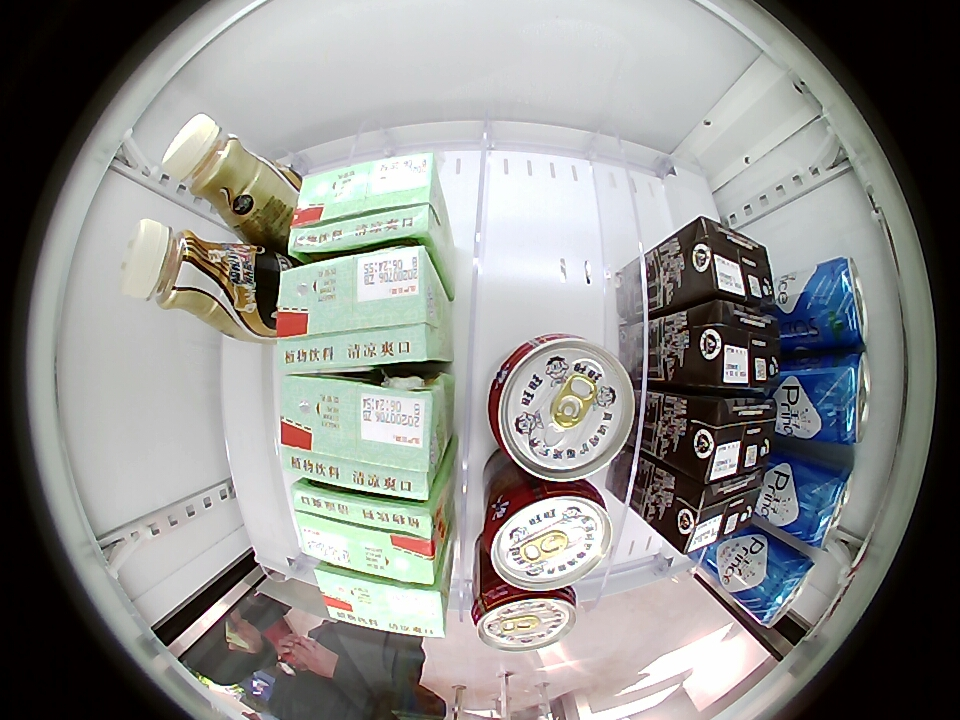kafei: (119, 218, 264, 339), (162, 113, 278, 232)
qingdaowangzi-2: (807, 351, 871, 445), (802, 257, 867, 349), (788, 459, 854, 547), (747, 547, 815, 627)
wanglaoji: (273, 244, 443, 373), (280, 372, 448, 501), (289, 152, 442, 261), (291, 480, 447, 585), (314, 564, 449, 637)
wangzainiunai: (487, 331, 637, 482), (481, 475, 613, 591), (472, 577, 576, 653)
weitanai2: (675, 216, 776, 306), (676, 394, 777, 483), (681, 302, 781, 390), (667, 468, 765, 553)
